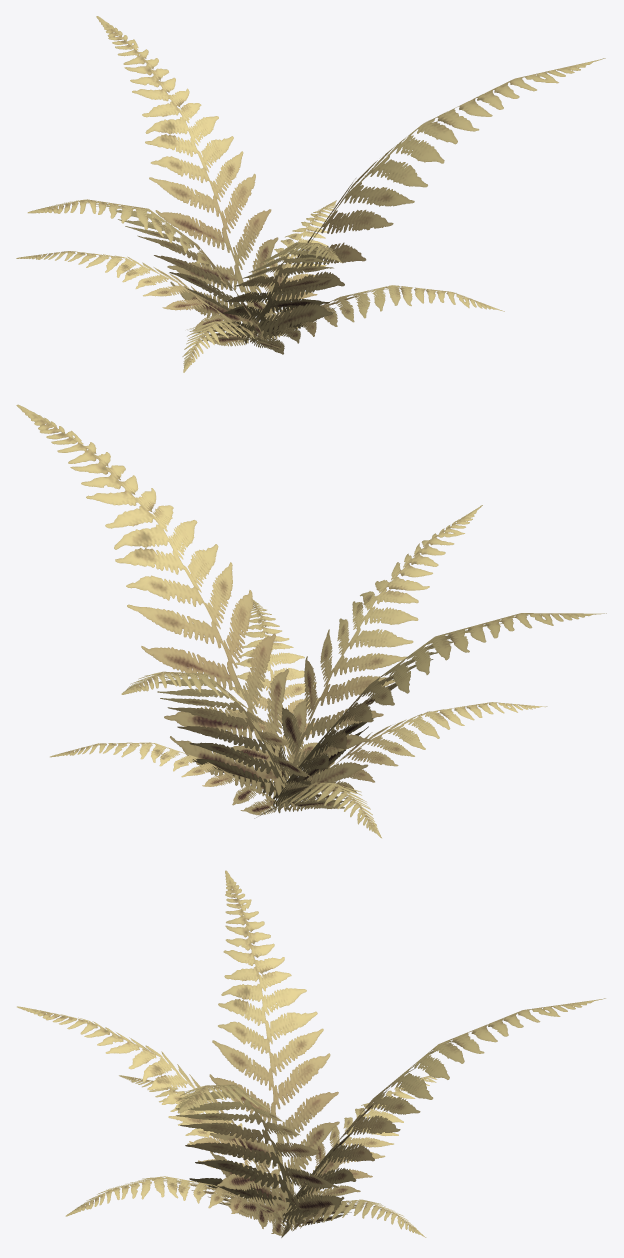
File: helecho_1_vcta.fbx
The picture shows the model from 3 angles, top to bottom: view 1: azimuth 30°, elevation 25°; view 2: azimuth 150°, elevation 25°; view 3: azimuth 270°, elevation 25°; orthographic projection. The views are drawn at different scales.
Parts seen in each view (by area): view 1: helecho_1_vcta; view 2: helecho_1_vcta; view 3: helecho_1_vcta.
Boxes of the visible parts, x1,y1,x2,y2 form: helecho_1_vcta: (16, 16, 605, 372); helecho_1_vcta: (16, 404, 606, 838); helecho_1_vcta: (17, 870, 605, 1237).
Size of the model in its own units: 195 by 87.05 by 173.
